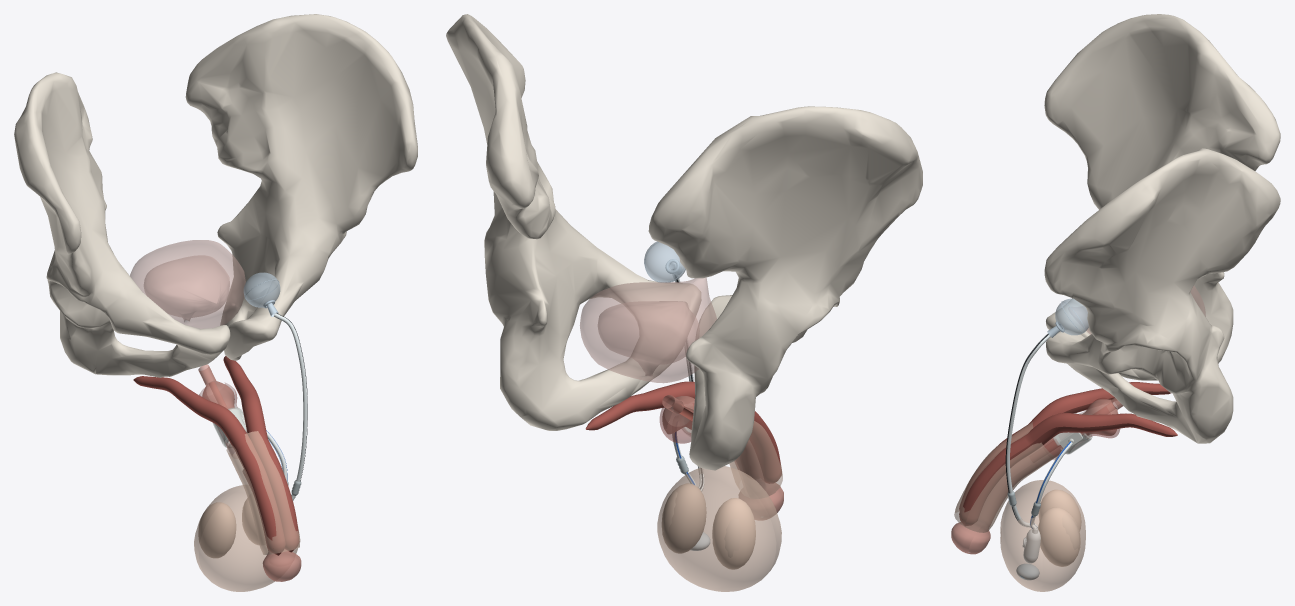
File: aus-32-check.glb
3 views of the same model, side by side, from view 1: azimuth 30°, elevation 25°; view 2: azimuth 150°, elevation 25°; view 3: azimuth 270°, elevation 25° (orthographic). The views are drawn at different scales.
Parts seen in each view (by area): view 1: Pubis_L, Pubis_R, Bladder, Scrotum_shell, Crus_R, Penile_skin, Crus_L, Corpus_spongiosum, Testis_R, Balloon_shell, Tubing_balloon; view 2: Pubis_R, Pubis_L, Scrotum_shell, Bladder, Corpus_spongiosum, Penile_skin, Testis_R, Testis_L, Crus_L, Crus_R, Balloon_shell, Bulbospongiosus; view 3: Pubis_L, Pubis_R, Scrotum_shell, Crus_L, Penile_skin, Corpus_spongiosum, Crus_R, Testis_L, Balloon_shell, Tubing_balloon, Testis_R, Bulbospongiosus (+1 smaller).
Part boxes in pixels (box(x1,y1,x2,y2)): Pubis_L: box(185, 14, 417, 360); Pubis_R: box(14, 72, 230, 377); Bladder: box(130, 240, 245, 328); Scrotum_shell: box(194, 485, 298, 591); Crus_R: box(133, 376, 285, 555); Penile_skin: box(226, 431, 300, 554); Crus_L: box(223, 356, 299, 552); Corpus_spongiosum: box(198, 364, 301, 581); Testis_R: box(198, 502, 236, 558); Balloon_shell: box(243, 272, 280, 307); Tubing_balloon: box(274, 313, 307, 500); Pubis_R: box(648, 106, 922, 470); Pubis_L: box(446, 14, 701, 430); Scrotum_shell: box(657, 466, 781, 591); Bladder: box(580, 277, 716, 383); Corpus_spongiosum: box(662, 395, 783, 520); Penile_skin: box(729, 421, 782, 498); Testis_R: box(712, 498, 755, 569); Testis_L: box(661, 483, 706, 553); Crus_L: box(585, 381, 695, 430); Crus_R: box(749, 411, 781, 483); Balloon_shell: box(644, 241, 685, 282); Bulbospongiosus: box(659, 398, 693, 443); Pubis_L: box(1044, 148, 1280, 443); Pubis_R: box(1044, 14, 1280, 380); Scrotum_shell: box(1000, 480, 1085, 591); Crus_L: box(959, 413, 1177, 526); Penile_skin: box(954, 422, 1056, 532); Corpus_spongiosum: box(951, 398, 1122, 554); Crus_R: box(959, 382, 1171, 510); Testis_L: box(1038, 507, 1080, 566); Balloon_shell: box(1055, 298, 1088, 335); Tubing_balloon: box(1005, 333, 1050, 527); Testis_R: box(1038, 489, 1081, 531); Bulbospongiosus: box(1044, 398, 1120, 459).
Size of what is drawn, in the model's own units: 0.2698 by 0.332 by 0.1992.
